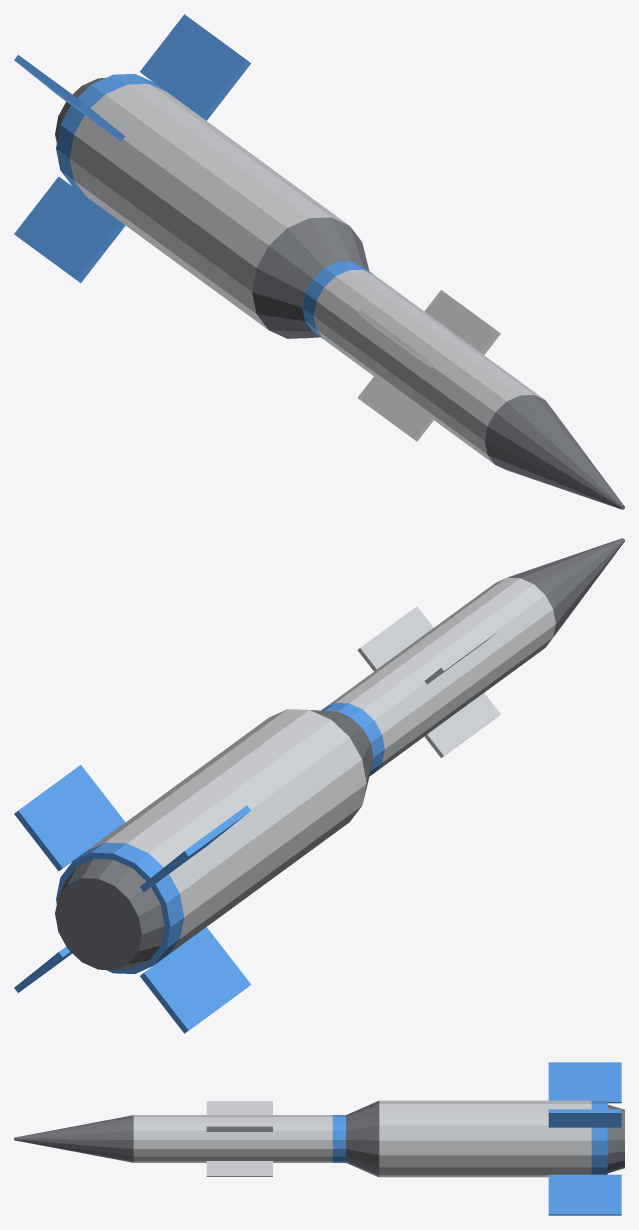
File: Interceptor_MidRange_01.fbx
3 views of the same model, one above another, from view 1: azimuth 30°, elevation 25°; view 2: azimuth 150°, elevation 25°; view 3: azimuth 270°, elevation 25° (orthographic). The views are drawn at different scales.
Visible parts, largest first — view 1: Interceptor_MidRange_01_Structure, Interceptor_MidRange_01_Accent, Interceptor_MidRange_01_Trim; view 2: Interceptor_MidRange_01_Structure, Interceptor_MidRange_01_Accent, Interceptor_MidRange_01_Trim; view 3: Interceptor_MidRange_01_Structure, Interceptor_MidRange_01_Accent, Interceptor_MidRange_01_Trim.
Boxes of the visible parts, x1,y1,x2,y2 form: Interceptor_MidRange_01_Structure: (69, 84, 544, 464); Interceptor_MidRange_01_Accent: (14, 14, 373, 339); Interceptor_MidRange_01_Trim: (55, 78, 624, 509); Interceptor_MidRange_01_Structure: (87, 577, 555, 954); Interceptor_MidRange_01_Accent: (14, 703, 384, 1033); Interceptor_MidRange_01_Trim: (55, 538, 624, 970); Interceptor_MidRange_01_Structure: (133, 1100, 591, 1177); Interceptor_MidRange_01_Accent: (332, 1062, 621, 1215); Interceptor_MidRange_01_Trim: (14, 1101, 624, 1176).
Bounding box in the file's own units: 0.8839 × 0.8839 × 4.6.
